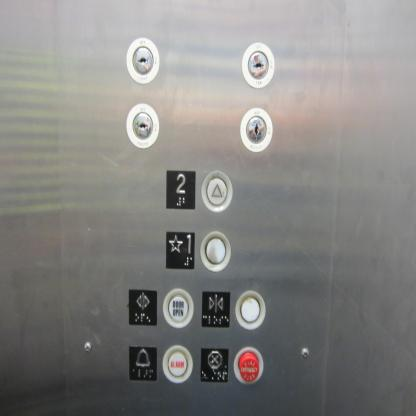2: (166, 169, 196, 210)
alarm: (127, 343, 158, 384)
close: (200, 288, 233, 330)
empty: (199, 230, 233, 273), (235, 287, 267, 332)
keyhole: (240, 38, 276, 91), (124, 34, 162, 84), (124, 102, 161, 150), (238, 106, 274, 154)
open: (127, 287, 159, 328)
s1: (165, 230, 195, 270)
stop: (199, 345, 231, 385)
text_alarm bell: (160, 344, 194, 386)
text_door open: (161, 288, 195, 330)
text_emergency: (232, 345, 266, 385)
up: (199, 168, 235, 214)
